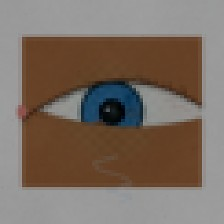foreign_body_visible: (82, 113, 118, 142)
